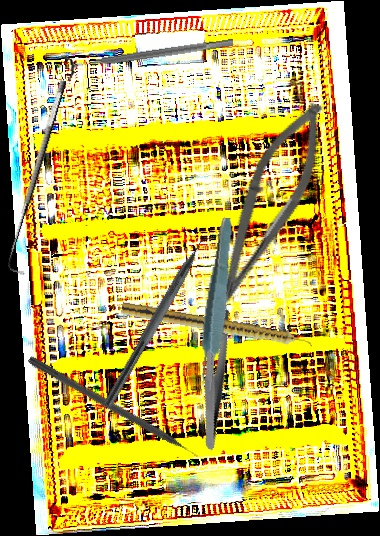Chopper: (103, 223, 223, 415)
Dressing Forceps: (168, 304, 261, 452)
Fixation Ring: (63, 28, 236, 83)
Handpiece: (119, 301, 315, 352)
Hook Surgical: (0, 79, 82, 276)
Micro Scissor: (200, 90, 339, 324)
Pusher: (26, 354, 211, 469)
Tissue Forceps: (194, 216, 238, 392)
